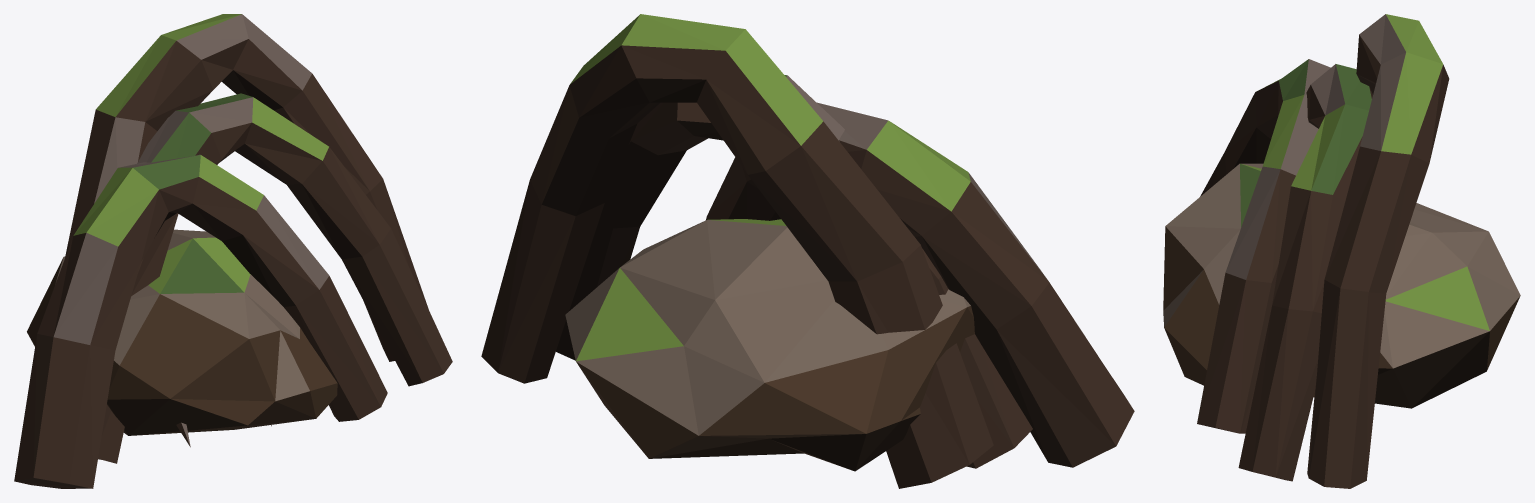
Rendered from SM_Rim_Root_A.fbx.
3 renders of one model, left to right at view 1: azimuth 30°, elevation 25°; view 2: azimuth 150°, elevation 25°; view 3: azimuth 270°, elevation 25°, orthographic. The views are drawn at different scales.
Parts seen in each view (by area): view 1: SM_Rim_Root_A; view 2: SM_Rim_Root_A; view 3: SM_Rim_Root_A.
Part boxes in pixels (x1,y1,x2,y2): SM_Rim_Root_A: (14, 14, 452, 488); SM_Rim_Root_A: (481, 14, 1134, 488); SM_Rim_Root_A: (1163, 14, 1520, 488).
Bounding box in the file's own units: 6.03 × 4.43 × 3.79.
